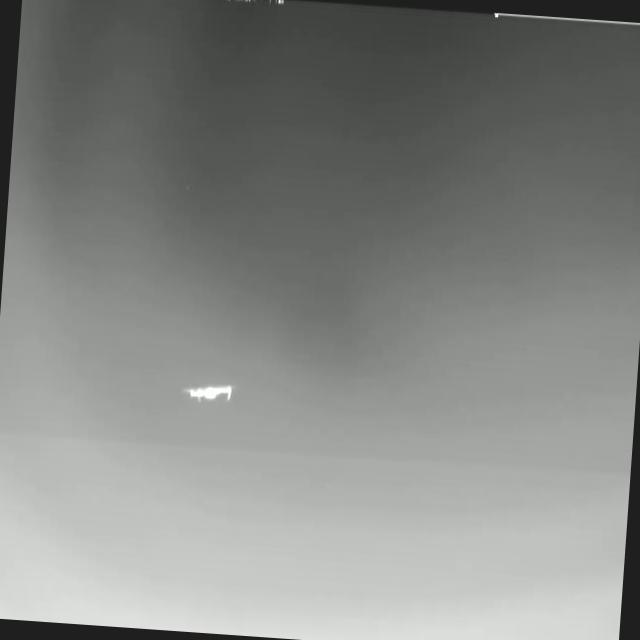DRONE: (174, 369, 243, 414)
